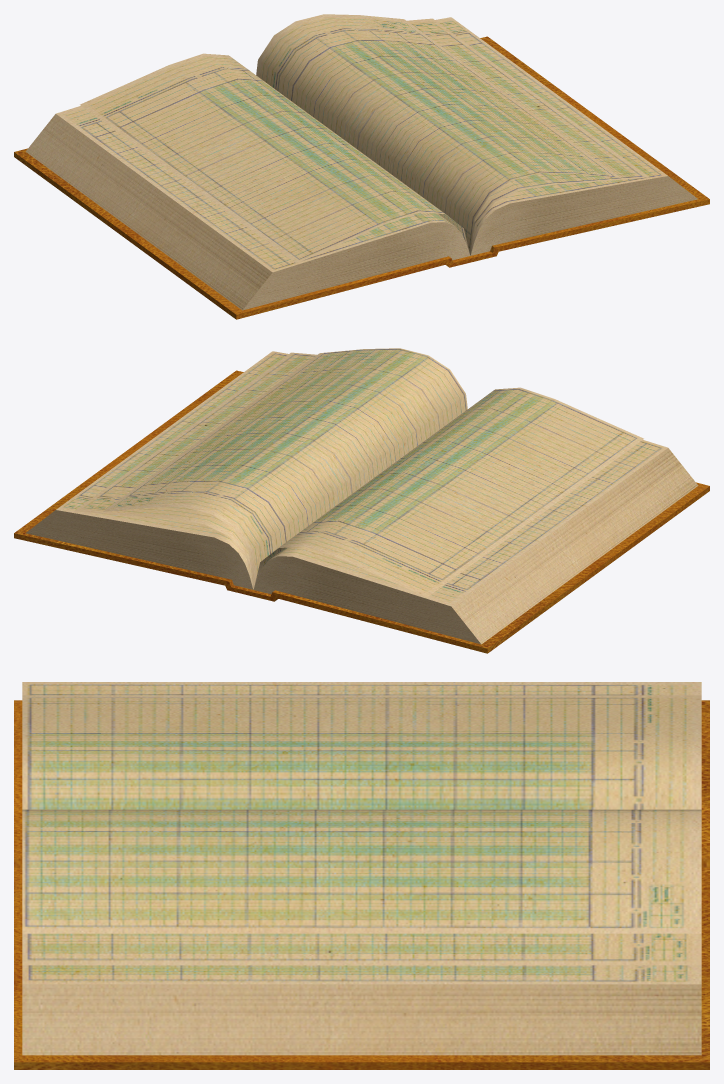
3 renders of one model, top to bottom at view 1: azimuth 30°, elevation 25°; view 2: azimuth 150°, elevation 25°; view 3: azimuth 270°, elevation 25°, orthographic. The views are drawn at different scales.
Parts seen in each view (by area): view 1: ledger01_MDL_nar; view 2: ledger01_MDL_nar; view 3: ledger01_MDL_nar.
Boxes of the visible parts, x1,y1,x2,y2 form: ledger01_MDL_nar: (14,14,709,319); ledger01_MDL_nar: (14,348,709,653); ledger01_MDL_nar: (14,682,709,1069).
Bounding box in the file's own units: 47.03 × 6.62 × 38.24.
1 material, 1 textured.
